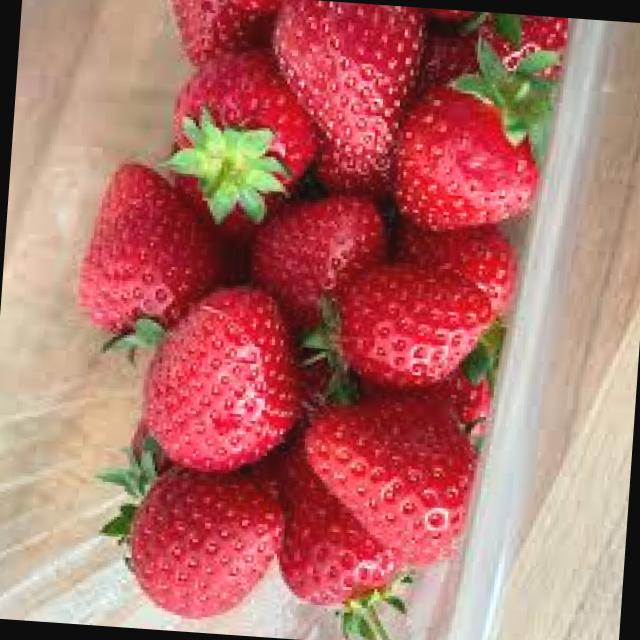strawberry: (103, 264, 322, 486), (292, 382, 484, 570), (56, 150, 222, 354), (263, 0, 426, 179), (121, 456, 289, 624), (162, 48, 326, 219), (388, 80, 544, 236)
